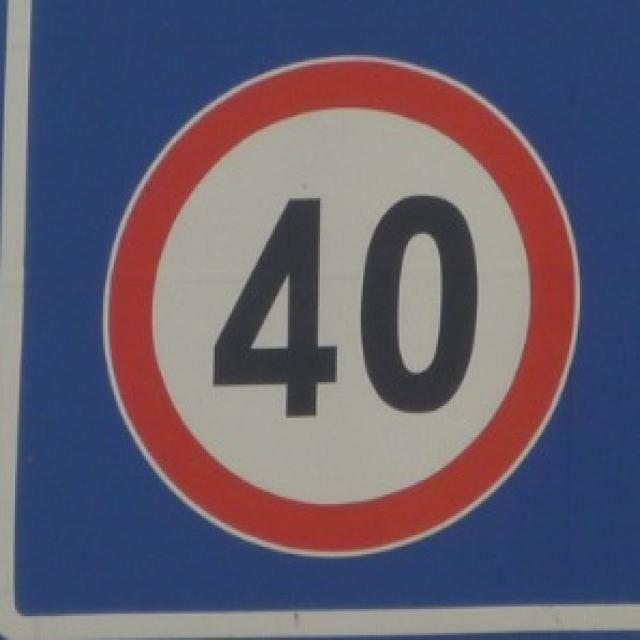Speed Limit -40-: (210, 192, 480, 422)
